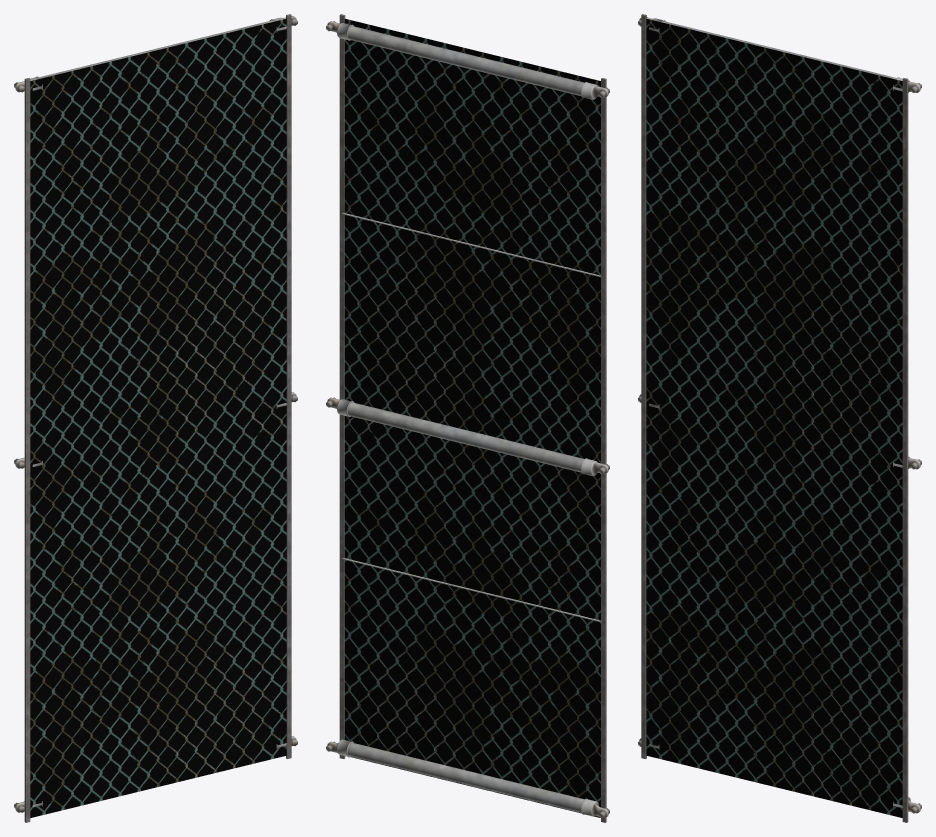
The model's file is fence_single.glb.
3 views of the same model, side by side, from view 1: azimuth 30°, elevation 25°; view 2: azimuth 150°, elevation 25°; view 3: azimuth 330°, elevation 25° (orthographic).
Parts seen in each view (by area): view 1: fence_single; view 2: fence_single; view 3: fence_single.
Boxes of the visible parts, x1,y1,x2,y2 form: fence_single: (14,14,297,822); fence_single: (326,14,609,822); fence_single: (638,14,921,822).
Bounding box in the file's own units: 0.9341 × 2.37 × 0.0486.
Materials: 2 (2 with a texture image).
